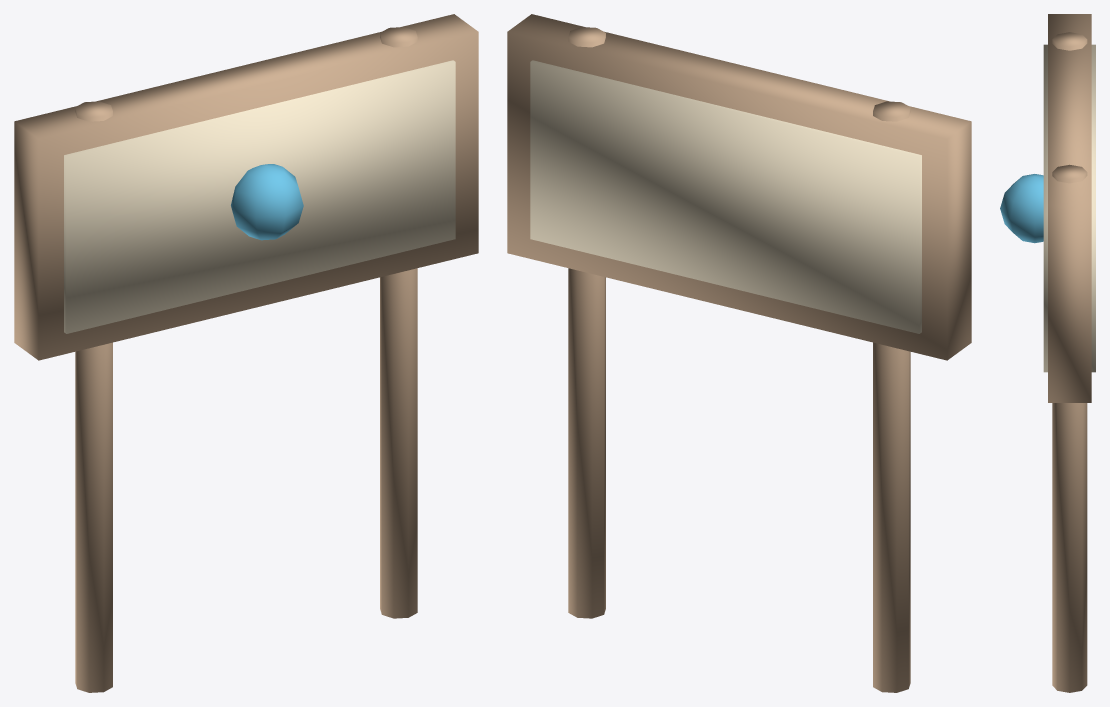
Rendered from beach_resort_sign.glb.
3 renders of one model, left to right at view 1: azimuth 30°, elevation 25°; view 2: azimuth 150°, elevation 25°; view 3: azimuth 270°, elevation 25°, orthographic. The views are drawn at different scales.
Parts seen in each view (by area): view 1: board_face, board, post_l, post_r, badge_shell; view 2: board_face, board, post_l, post_r; view 3: board, post_r, board_face, badge_shell, post_l.
Boxes of the visible parts, x1,y1,x2,y2 form: board_face: (64, 60, 455, 333); board: (14, 14, 478, 360); post_l: (75, 101, 112, 692); post_r: (380, 27, 417, 618); badge_shell: (231, 164, 303, 240); board_face: (530, 60, 921, 333); board: (507, 14, 971, 360); post_l: (873, 101, 910, 692); post_r: (568, 27, 605, 618); board: (1048, 14, 1091, 402); post_r: (1052, 164, 1087, 692); board_face: (1043, 44, 1095, 372); badge_shell: (1000, 174, 1043, 243); post_l: (1052, 32, 1087, 50).
Bounding box in the file's own units: 0.52 × 0.65 × 0.11.
